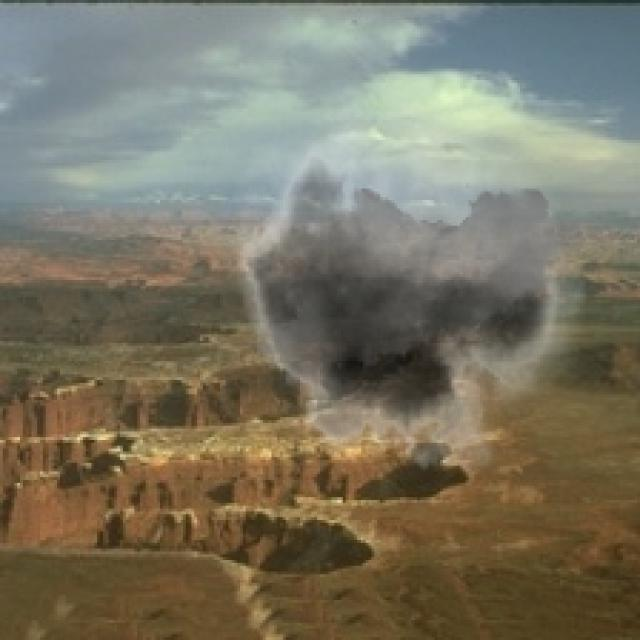Smoke: (214, 77, 586, 492)
